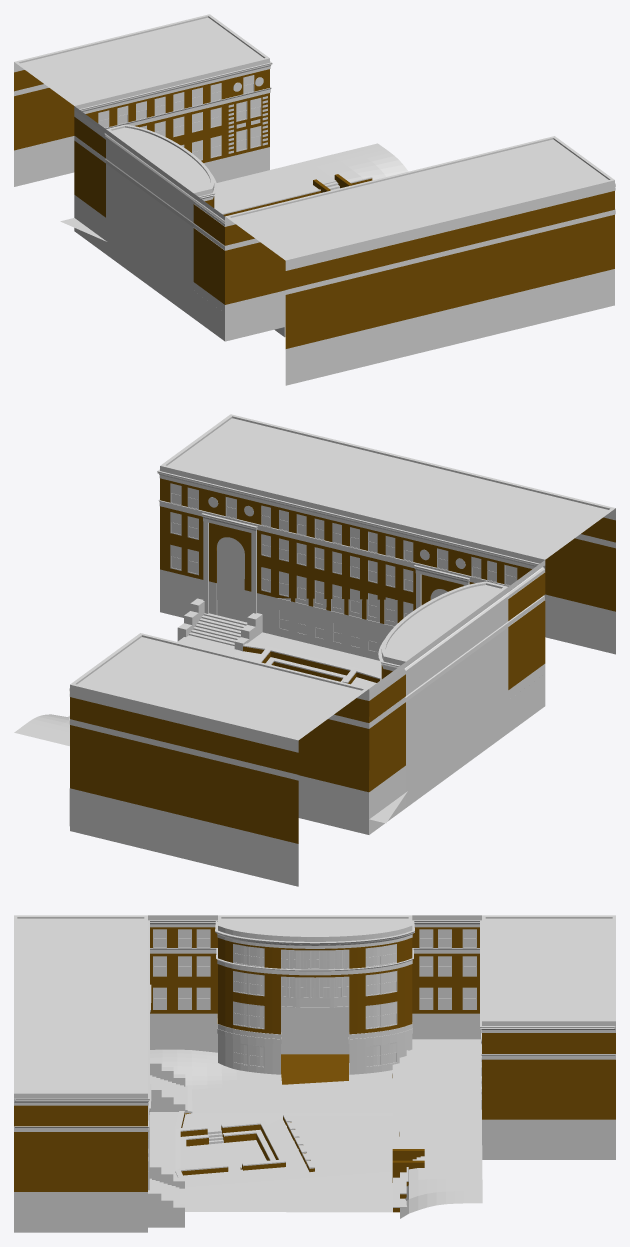
File: 0cech entrance.fbx
3 views of the same model, one above another, from view 1: azimuth 30°, elevation 25°; view 2: azimuth 150°, elevation 25°; view 3: azimuth 270°, elevation 25° (orthographic). The views are drawn at different scales.
Visible parts, largest first — view 1: 00building-no-windows-bricks; view 2: 00building-no-windows-bricks; view 3: 00building-no-windows-bricks.
Part boxes in pixels (bbox=[...]): 00building-no-windows-bricks: bbox=[14, 14, 615, 385]; 00building-no-windows-bricks: bbox=[14, 414, 615, 886]; 00building-no-windows-bricks: bbox=[14, 915, 615, 1232].
Bounding box in the file's own units: 23544 × 8873 × 32019.
